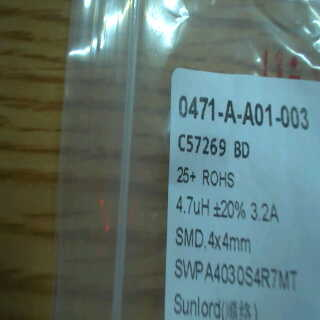4.7uH: (173, 193, 212, 217)
